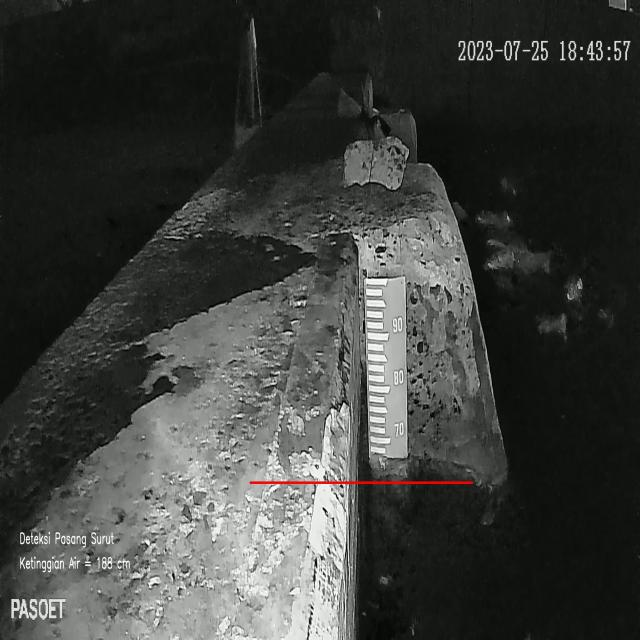70: (394, 420, 406, 438)
80: (392, 368, 404, 388)
90: (391, 316, 404, 335)
staff: (364, 277, 408, 459)
